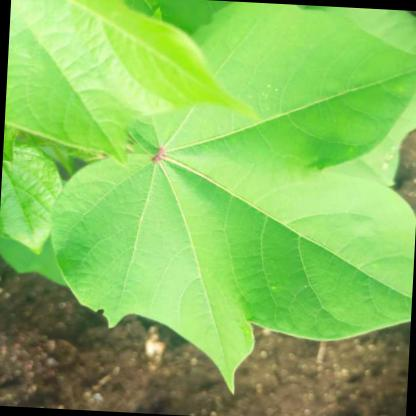cotton: (39, 0, 416, 404)
